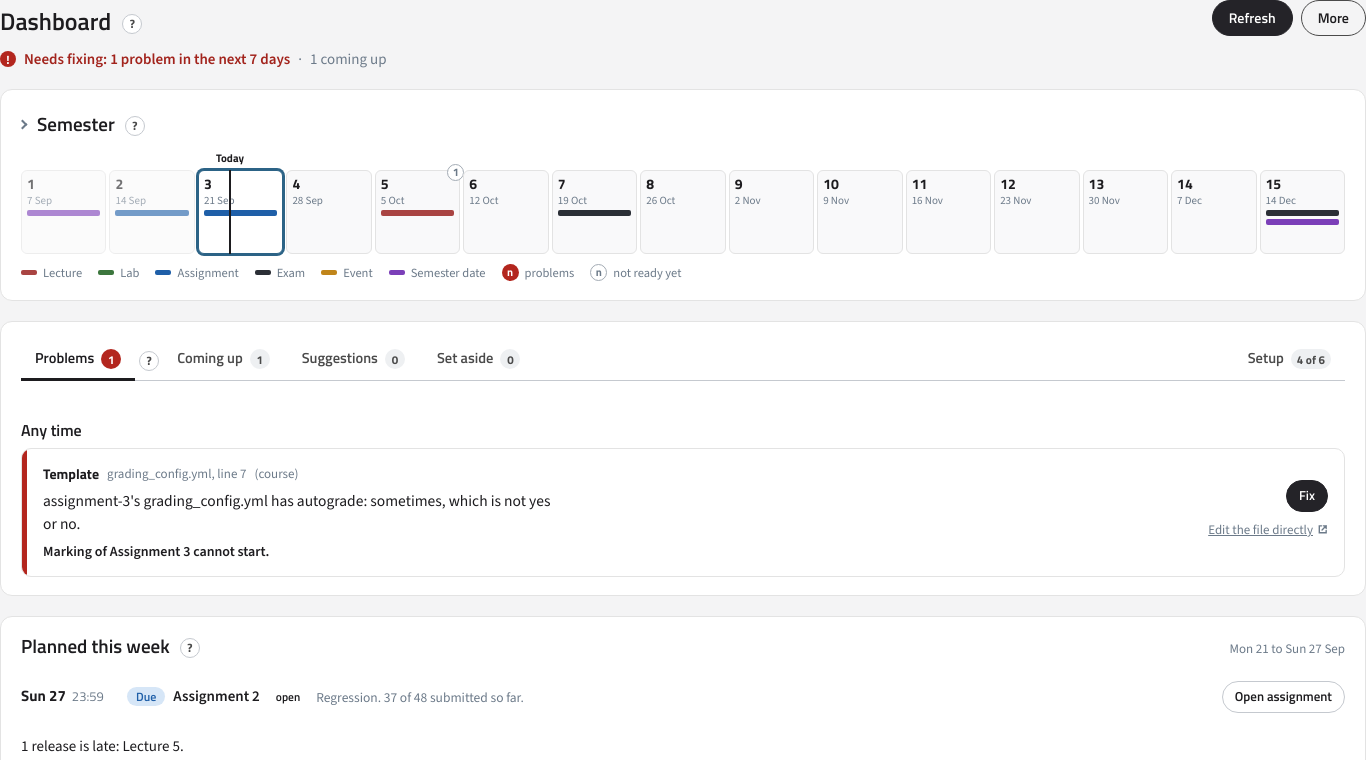
it: the Dashboard › says a late release is late, with its Details
Click the button "1 5 5 Oct" at (418, 212), box [375,170,460,254]
(page scrolled)
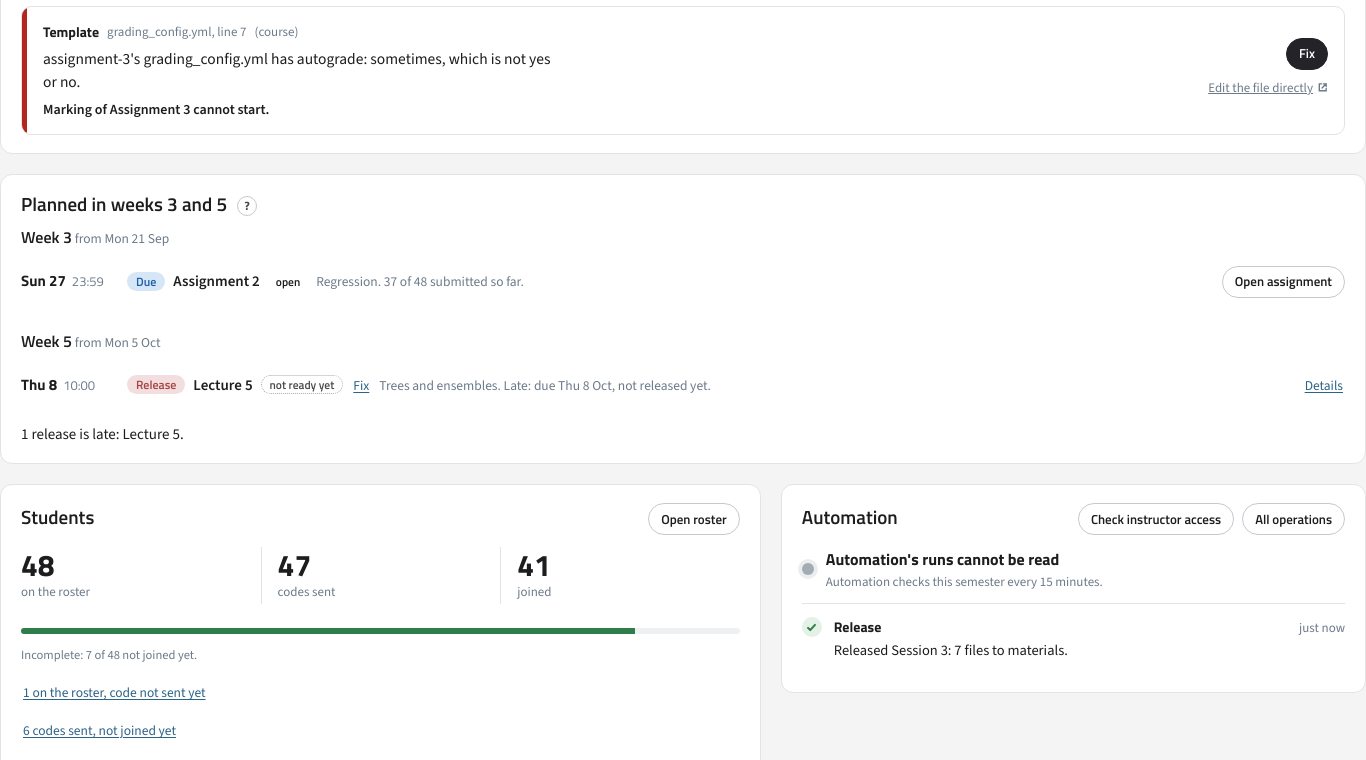
Now the element with class "agenda" shows "Late: due Thu 8 Oct, not released yet.", box [379,376,711,394]
Now the link with id "release-s5" reads "Details", box [1305,376,1343,394]
